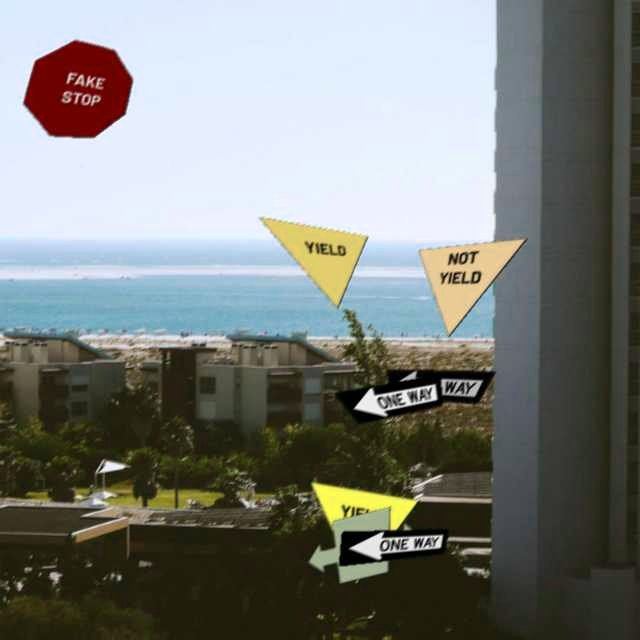FAKE_STOP: (22, 40, 133, 139)
GO_AROUND: (307, 507, 418, 585)
NOT_YIELD: (417, 238, 528, 338)
ONE_WAY_ left: (332, 375, 443, 425), (338, 529, 449, 567), (385, 369, 496, 405)
YIELD: (309, 482, 420, 586), (257, 217, 368, 310)
